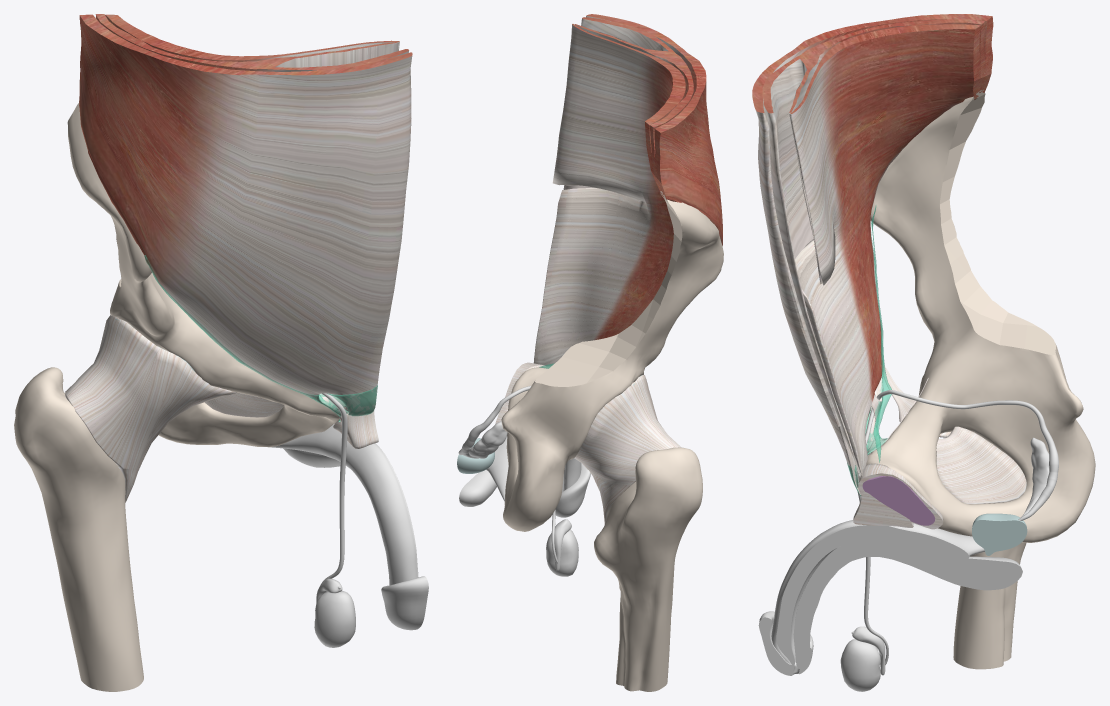
File: open3dmodel-inguinal-ligament.glb
3 views of the same model, side by side, from view 1: azimuth 30°, elevation 25°; view 2: azimuth 150°, elevation 25°; view 3: azimuth 270°, elevation 25° (orthographic). The views are drawn at different scales.
Visible parts, largest first — view 1: External abdominal oblique muscle.r, Femur.r, Hip bone.r, Hip joint capsule.r, Corpus cavernosum of penis, Internal abdominal oblique muscle.r, Testis.r, Transversus abdominis muscle.r, Glans penis, Obturator membrane.r, Ductus deferens.r, Suspensory ligament of penis (+1 smaller); view 2: Transversus abdominis muscle.r, Hip bone.r, Femur.r, External abdominal oblique muscle.r, Hip joint capsule.r, Internal abdominal oblique muscle.r, Corpus cavernosum of penis, Testis.r, Corpus spongiosum of penis, Glans penis, Ductus deferens.r, Seminal gland.r (+3 smaller); view 3: Hip bone.r, Transversus abdominis muscle.r, Internal abdominal oblique muscle.r, External abdominal oblique muscle.r, Corpus spongiosum of penis, Corpus cavernosum of penis, Femur.r, Obturator membrane.r, Ductus deferens.r, Interpubic disc, Prostate, Testis.r (+6 smaller).
Part boxes in pixels (<box>): External abdominal oblique muscle.r: <box>79,14,412,421</box>; Femur.r: <box>14,367,143,691</box>; Hip bone.r: <box>67,103,345,447</box>; Hip joint capsule.r: <box>65,315,236,502</box>; Corpus cavernosum of penis: <box>271,424,418,585</box>; Internal abdominal oblique muscle.r: <box>95,14,408,71</box>; Testis.r: <box>314,590,355,647</box>; Transversus abdominis muscle.r: <box>105,14,399,61</box>; Glans penis: <box>381,576,428,630</box>; Obturator membrane.r: <box>204,392,284,417</box>; Ductus deferens.r: <box>320,393,347,584</box>; Suspensory ligament of penis: <box>333,410,378,448</box>; Transversus abdominis muscle.r: <box>534,24,685,365</box>; Hip bone.r: <box>501,191,723,531</box>; Femur.r: <box>594,447,702,691</box>; External abdominal oblique muscle.r: <box>533,14,722,362</box>; Hip joint capsule.r: <box>574,375,681,524</box>; Internal abdominal oblique muscle.r: <box>563,17,693,194</box>; Corpus cavernosum of penis: <box>486,436,581,501</box>; Testis.r: <box>546,529,578,576</box>; Corpus spongiosum of penis: <box>459,470,564,506</box>; Glans penis: <box>555,463,590,517</box>; Ductus deferens.r: <box>458,353,564,563</box>; Seminal gland.r: <box>463,421,507,458</box>; Hip bone.r: <box>866,89,1095,542</box>; Transversus abdominis muscle.r: <box>790,24,981,476</box>; Internal abdominal oblique muscle.r: <box>762,19,986,477</box>; External abdominal oblique muscle.r: <box>752,14,993,495</box>; Corpus spongiosum of penis: <box>793,539,1022,668</box>; Corpus cavernosum of penis: <box>771,520,984,664</box>; Femur.r: <box>953,542,1026,669</box>; Obturator membrane.r: <box>936,426,1026,504</box>; Ductus deferens.r: <box>857,390,1058,664</box>; Interpubic disc: <box>862,476,935,525</box>; Prostate: <box>972,513,1027,555</box>; Testis.r: <box>840,639,880,691</box>.
Bounding box in the file's own units: 0.1482 × 0.3384 × 0.1676.
8 materials, 3 textured.
